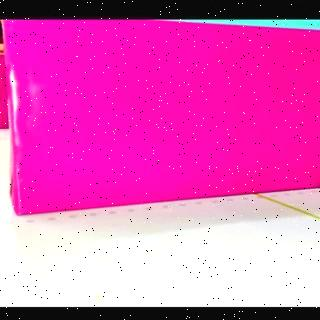xparking: (13, 29, 320, 218), (3, 60, 8, 133)
